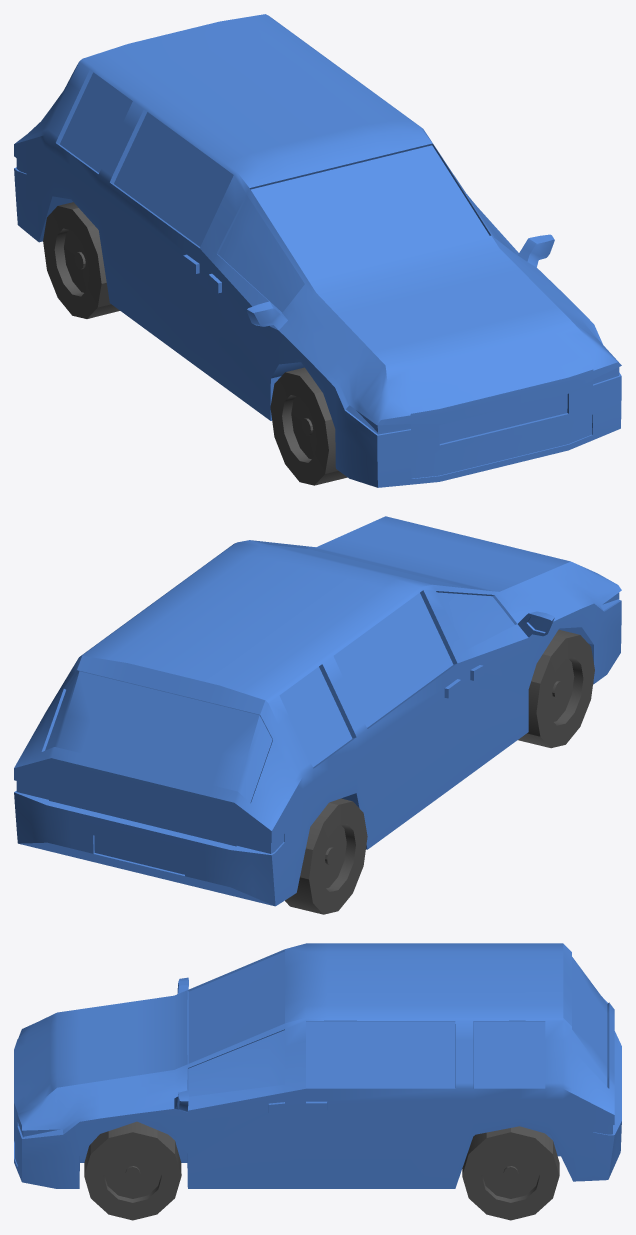
The model's file is car.fbx.
3 views of the same model, one above another, from view 1: azimuth 30°, elevation 25°; view 2: azimuth 150°, elevation 25°; view 3: azimuth 270°, elevation 25° (orthographic). The views are drawn at different scales.
Parts seen in each view (by area): view 1: CarBase, WheelFrontR, WheelBackR; view 2: CarBase, WheelBackR, WheelFrontR; view 3: CarBase, WheelFrontL, WheelBackL.
Part boxes in pixels (box(x1,y1,x2,y2)): CarBase: box(14, 14, 621, 487); WheelFrontR: box(270, 367, 347, 485); WheelBackR: box(43, 202, 119, 318); CarBase: box(14, 516, 621, 906); WheelBackR: box(285, 798, 367, 914); WheelFrontR: box(518, 629, 594, 748); CarBase: box(14, 943, 621, 1188); WheelFrontL: box(84, 1121, 181, 1220); WheelBackL: box(462, 1126, 559, 1220).
Size of the model in its own units: 216 by 154 by 449.
